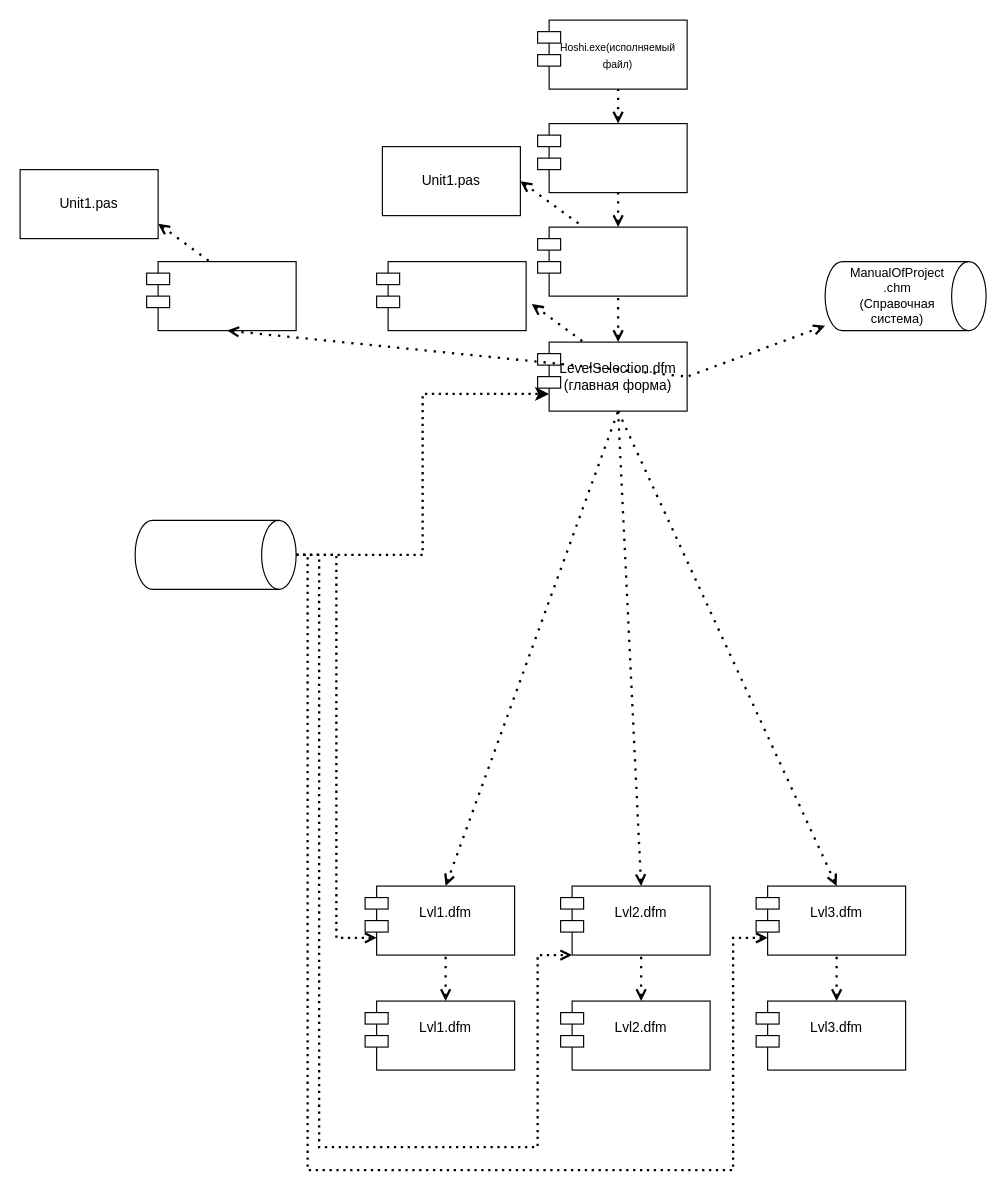
Image size: 1006x1201. Some labels were removed from this diagram. The box of each missing label's shape, as (x1, y1, x2, y2) in pixels:
*.mp3, *.ogg: (134, 519, 296, 589)
Hoshi.dpr(фыйл проекта): (548, 122, 687, 193)
LevelSelection.pas: (387, 260, 526, 331)
Unit1.dfm(форма заставки): (548, 226, 687, 296)
Unit3.dfm (Настройки): (157, 260, 296, 331)
